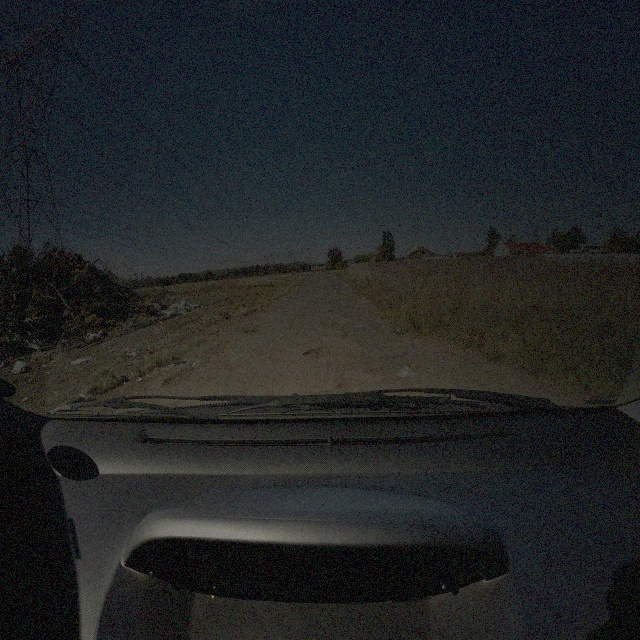pothole: (302, 346, 337, 362), (322, 321, 341, 331), (243, 328, 260, 334)
